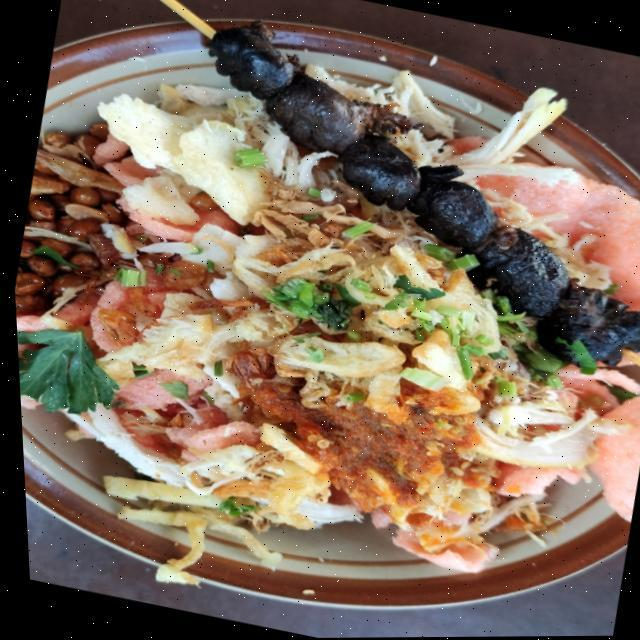bubur ayam: (2, 38, 640, 606)
mangkuk: (0, 0, 640, 640)
